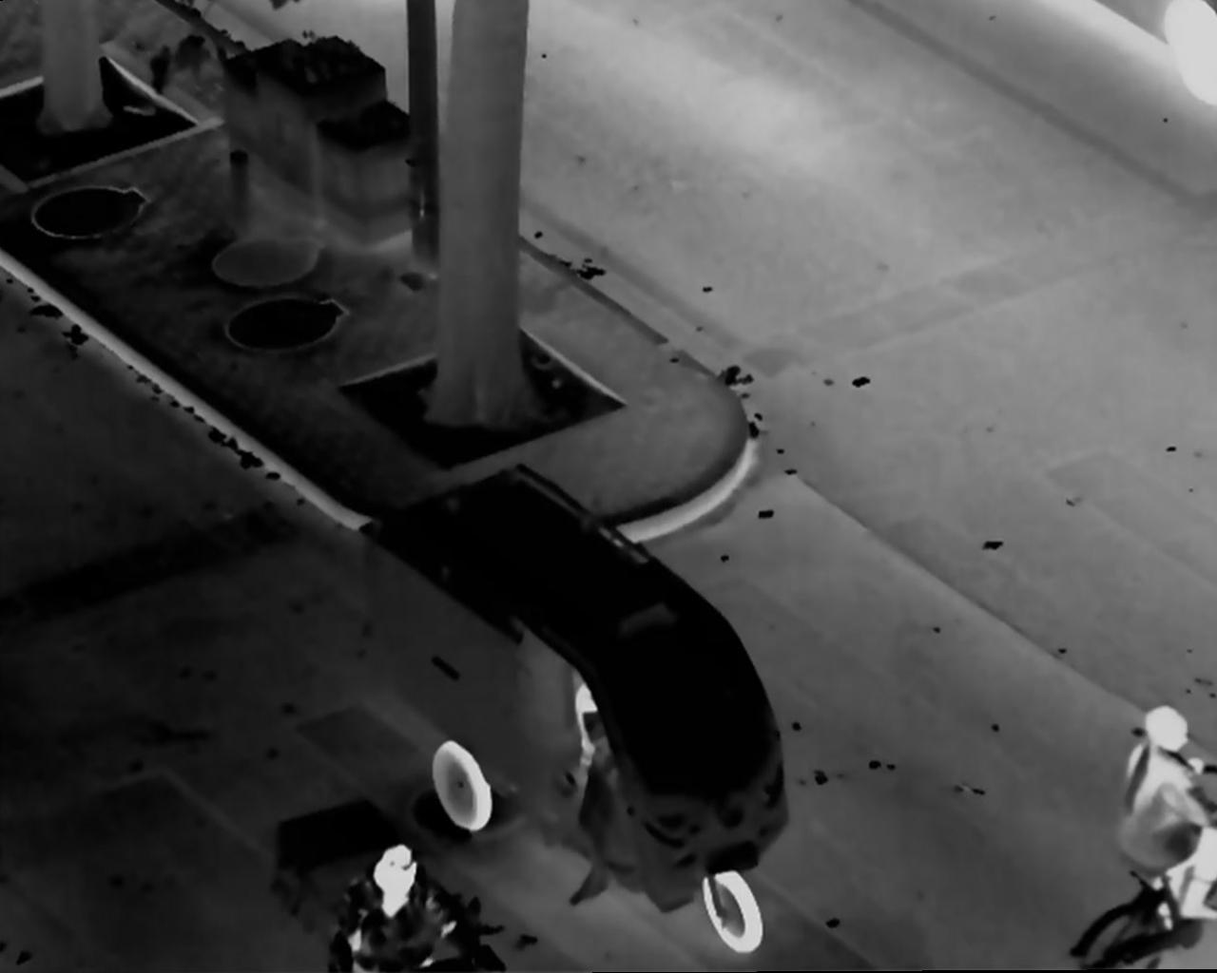person: (1115, 699, 1214, 951), (333, 841, 476, 973)
